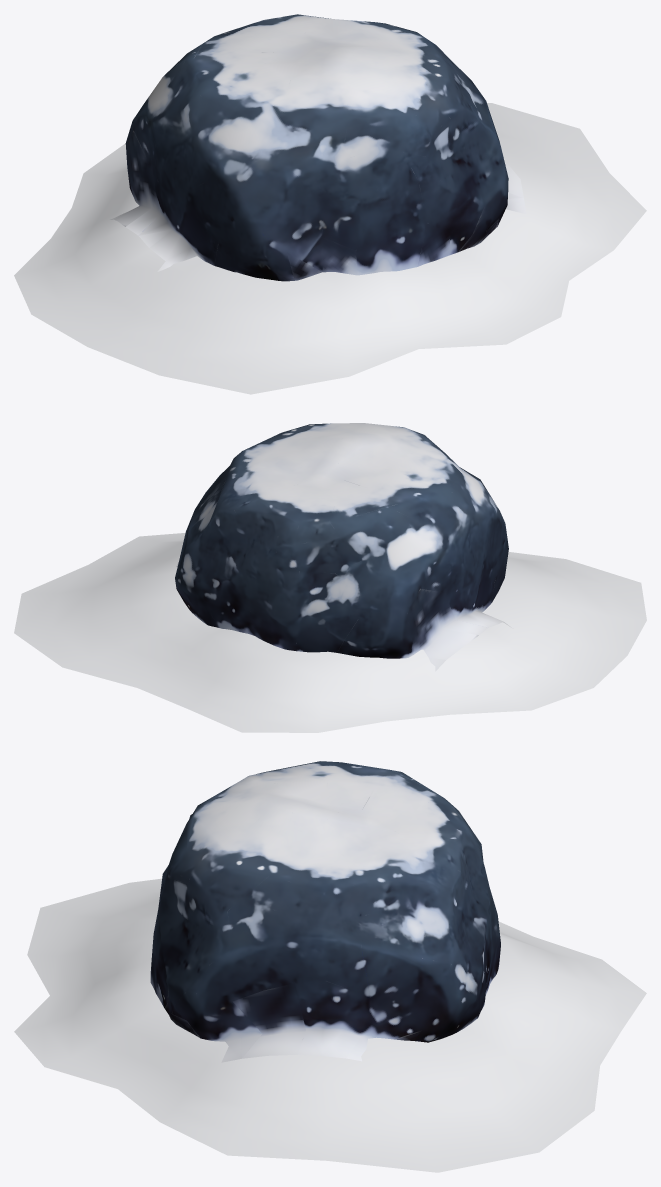
The model's file is SKI_OBS_Rock_A-CNnSuMdr.glb.
3 renders of one model, top to bottom at view 1: azimuth 30°, elevation 25°; view 2: azimuth 150°, elevation 25°; view 3: azimuth 270°, elevation 25°, orthographic. The views are drawn at different scales.
Parts seen in each view (by area): view 1: SKI_OBS_Rock_A; view 2: SKI_OBS_Rock_A; view 3: SKI_OBS_Rock_A.
Boxes of the visible parts, left/top/right/bottom form: SKI_OBS_Rock_A: left=14, top=14, right=646, bottom=394; SKI_OBS_Rock_A: left=14, top=423, right=646, bottom=732; SKI_OBS_Rock_A: left=14, top=761, right=646, bottom=1172.
Size of the model in its own units: 1.58 by 0.5 by 1.38.
Materials: 1 (1 with a texture image).
